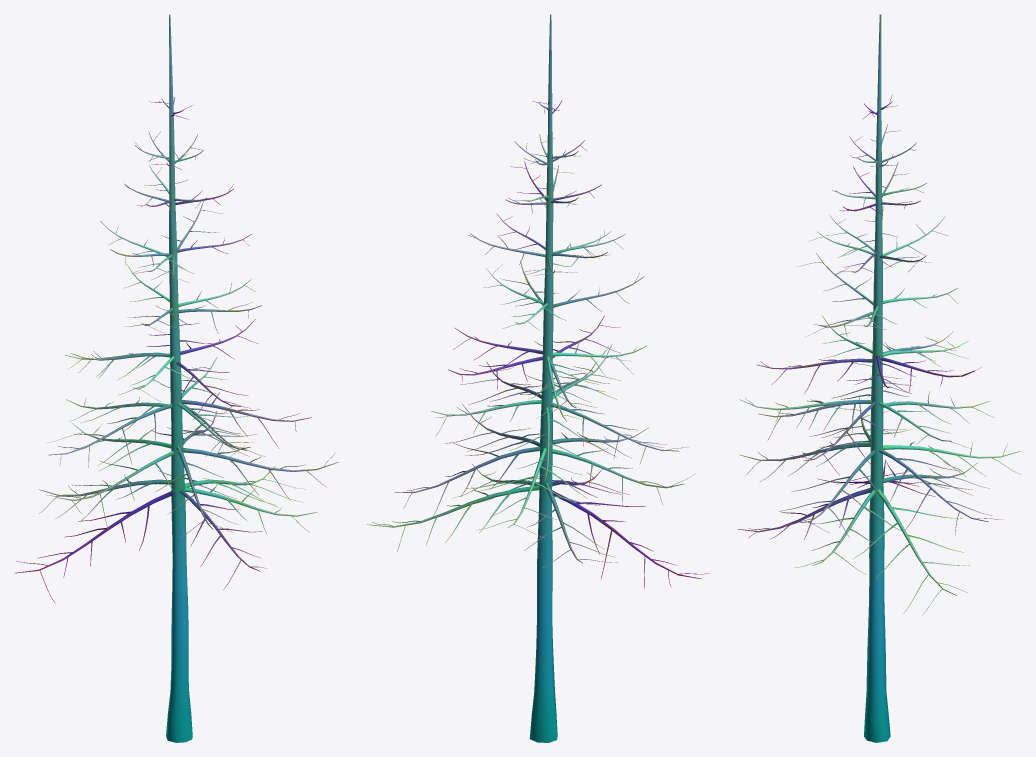
The model's file is larch-grove-a.glb.
3 renders of one model, left to right at view 1: azimuth 30°, elevation 25°; view 2: azimuth 150°, elevation 25°; view 3: azimuth 270°, elevation 25°, orthographic.
Visible parts, largest first — view 1: bark; view 2: bark; view 3: bark.
Part boxes in pixels (left/top/right/bottom): bark: left=14, top=14, right=338, bottom=742; bark: left=367, top=14, right=709, bottom=742; bark: left=738, top=14, right=1021, bottom=742.
Size of the model in its own units: 9.64 by 21.45 by 7.68.
